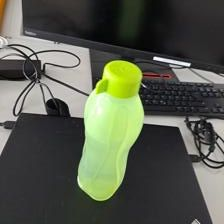bottle: (76, 60, 147, 203)
